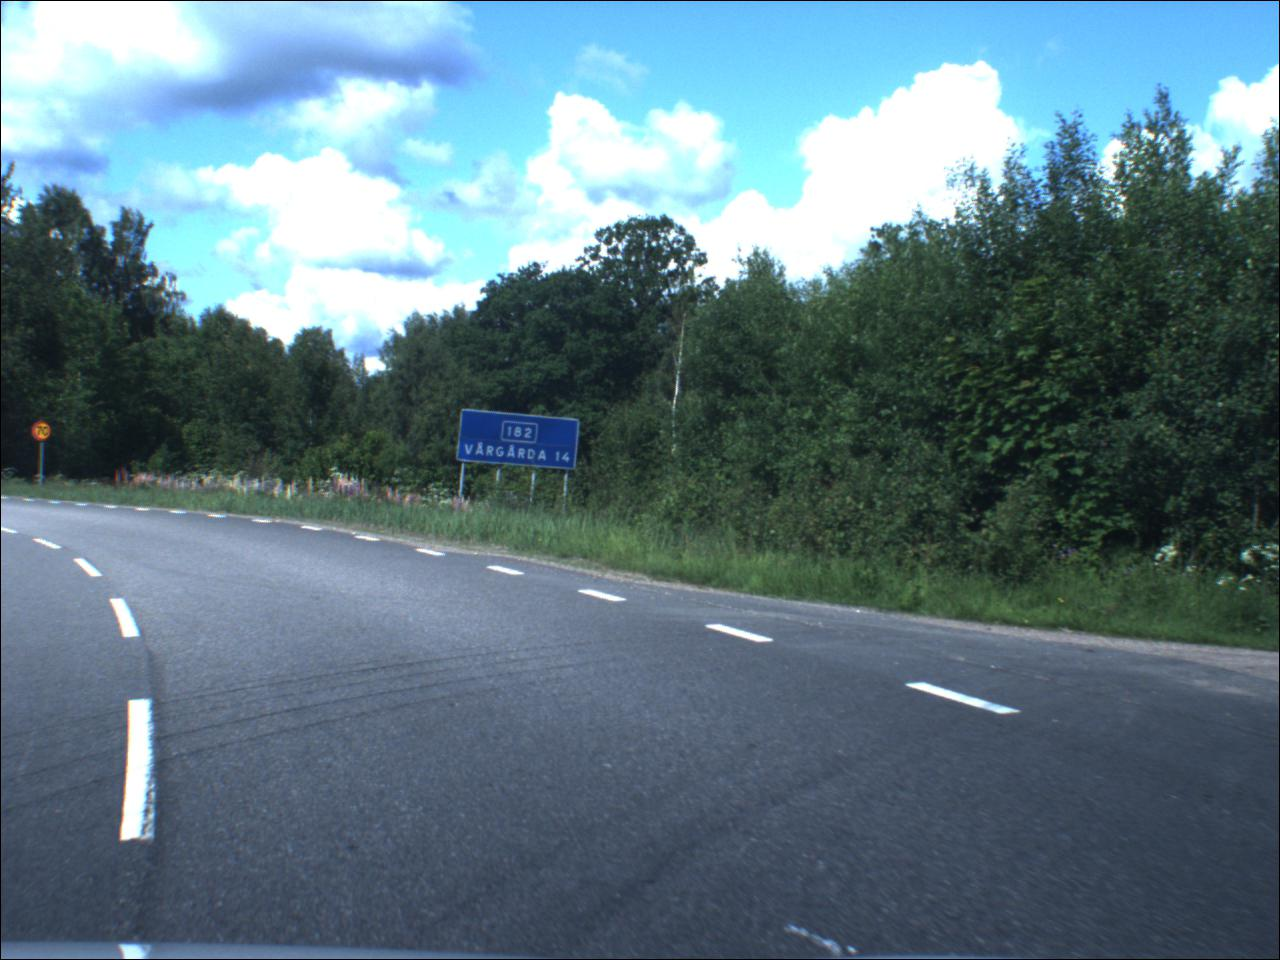70_SIGN: (34, 421, 54, 443)
